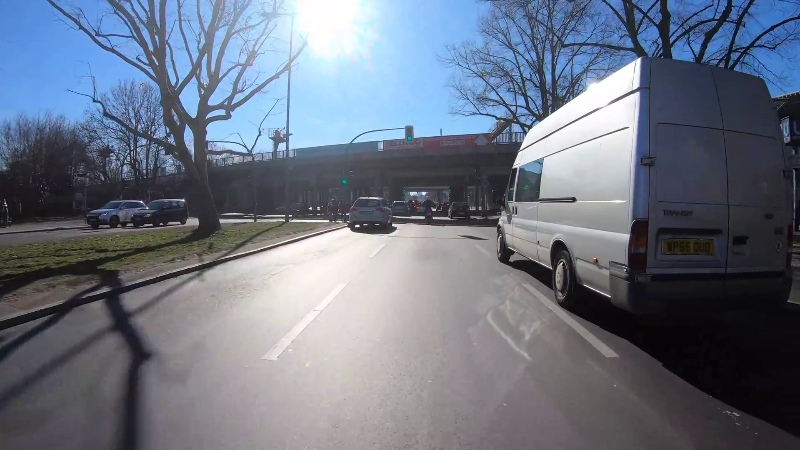Plate: (658, 237, 717, 256)
